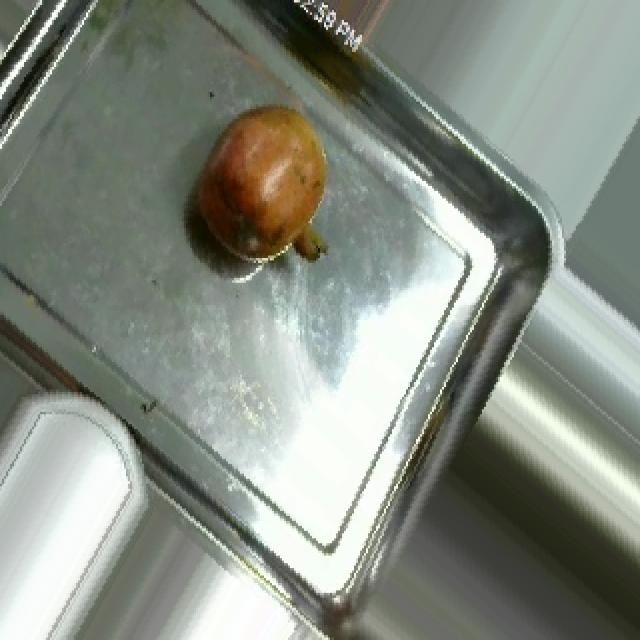fruit: (178, 84, 354, 288)
